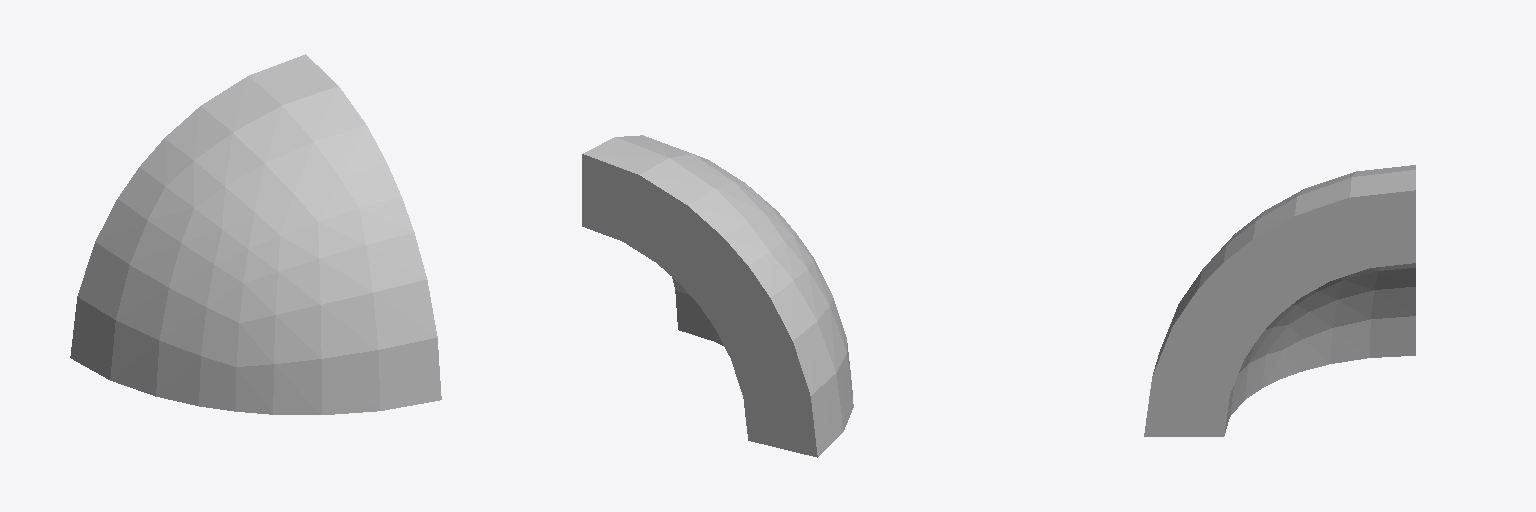
The model's file is obj_planet_piece_4.obj.
The picture shows the model from 3 angles: view 1: azimuth 30°, elevation 25°; view 2: azimuth 150°, elevation 25°; view 3: azimuth 270°, elevation 25°; orthographic projection.
Parts seen in each view (by area): view 1: Cube.011_Cube.018; view 2: Cube.011_Cube.018; view 3: Cube.011_Cube.018.
Boxes of the visible parts, x1,y1,x2,y2 form: Cube.011_Cube.018: [70, 54, 441, 414]; Cube.011_Cube.018: [582, 135, 853, 457]; Cube.011_Cube.018: [1144, 165, 1415, 436].
Size of the model in its own units: 1.24 by 1.24 by 1.24.